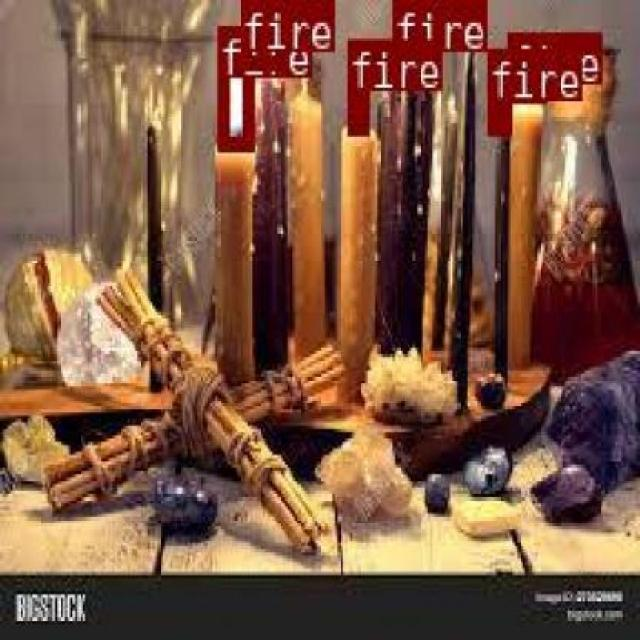fire: (218, 25, 252, 148), (390, 0, 441, 75), (240, 0, 282, 68), (504, 32, 544, 100), (347, 90, 367, 132), (487, 100, 510, 131)
